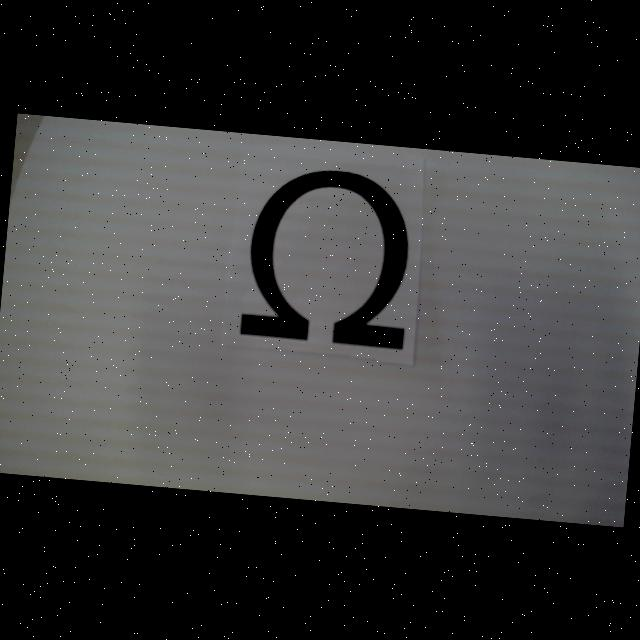OMEGA: (240, 163, 417, 350)
